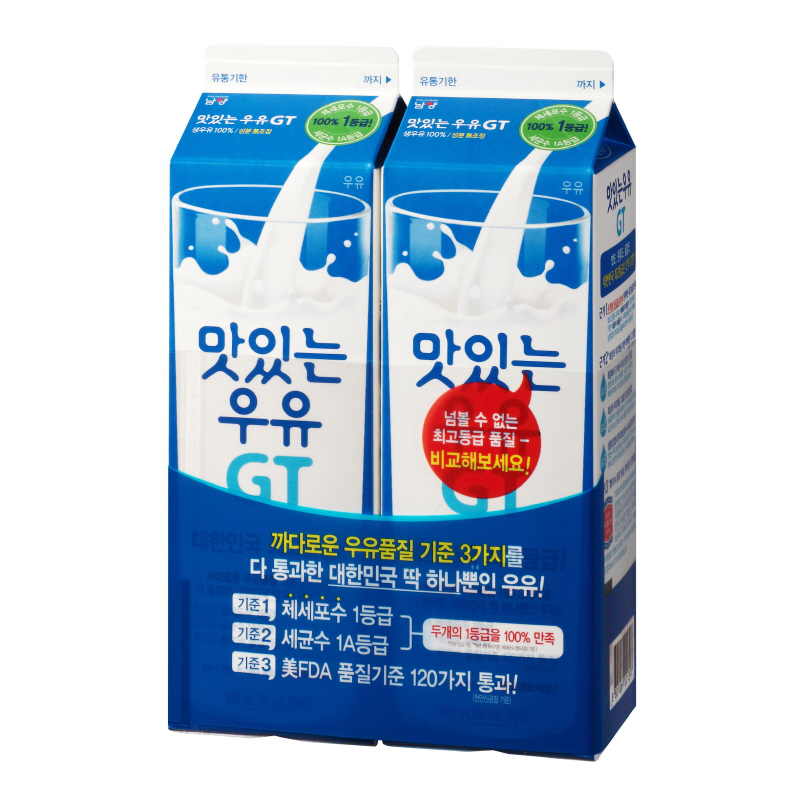milk: (167, 40, 635, 595)
